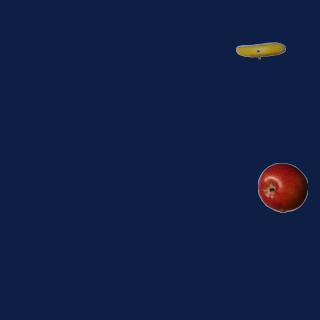Apple Braeburn: (257, 162, 307, 212)
Banana: (235, 25, 285, 75)
